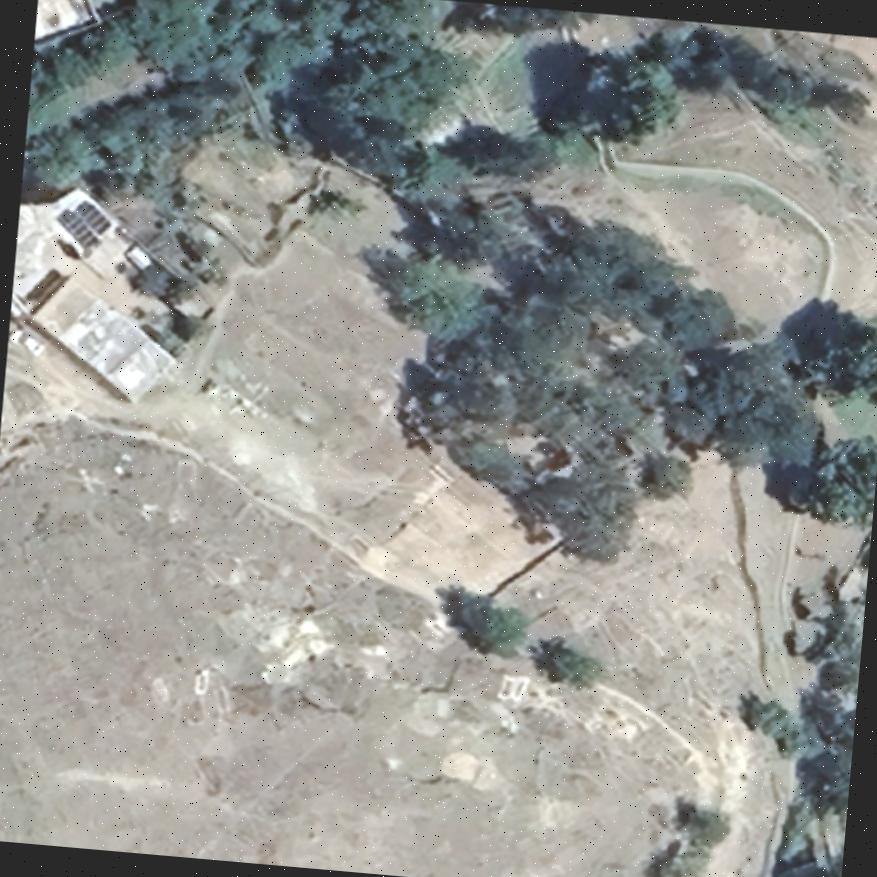Solarpanel: (54, 196, 113, 246)
